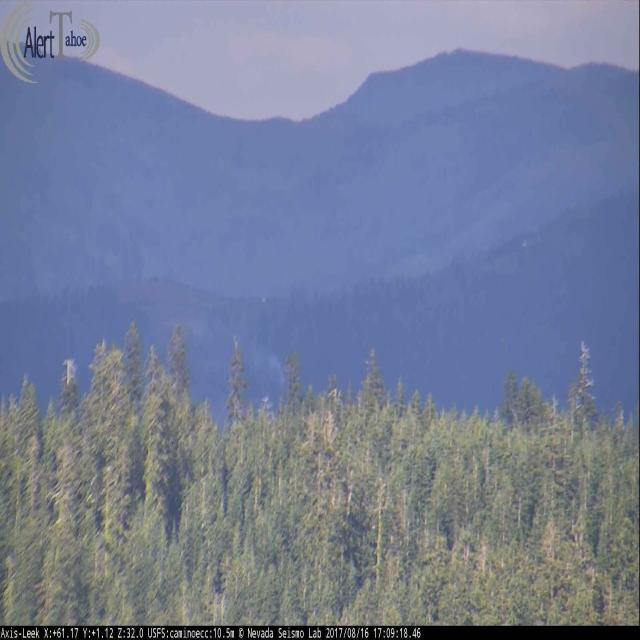smoke: (242, 307, 291, 393)
